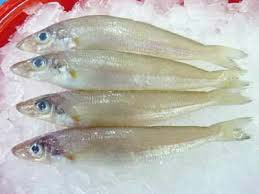kiss: (16, 15, 247, 74), (10, 124, 250, 167), (13, 87, 252, 126), (10, 49, 246, 87)
